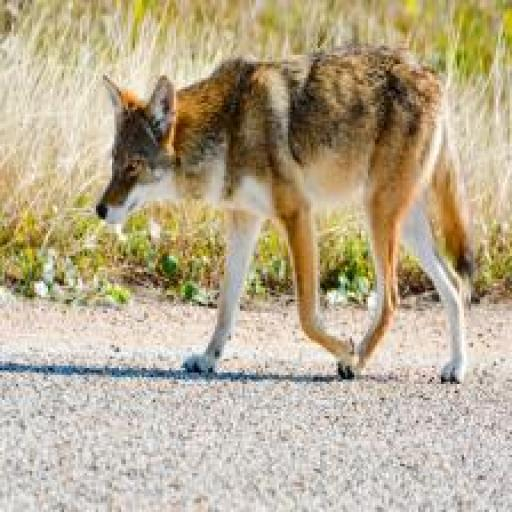wolf: (82, 32, 511, 455)
